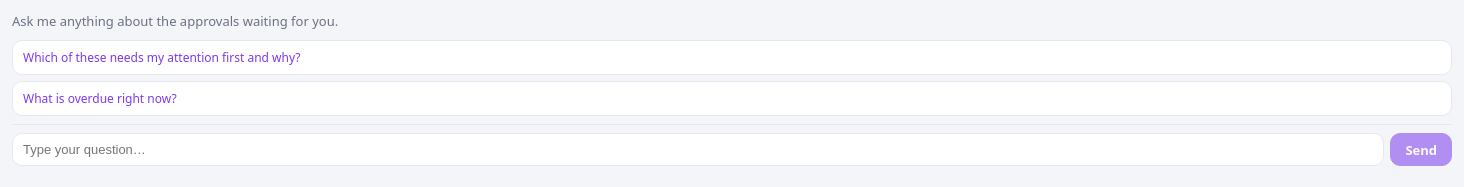
ChatPanel: degraded and error states › treats a malformed stream event as an error instead of rendering it
The image size is (1464, 187).
Step 1. Type "Which of these needs my attention first?" into the field named "message the assistant" → (698, 150), box [12,133,1384,166]
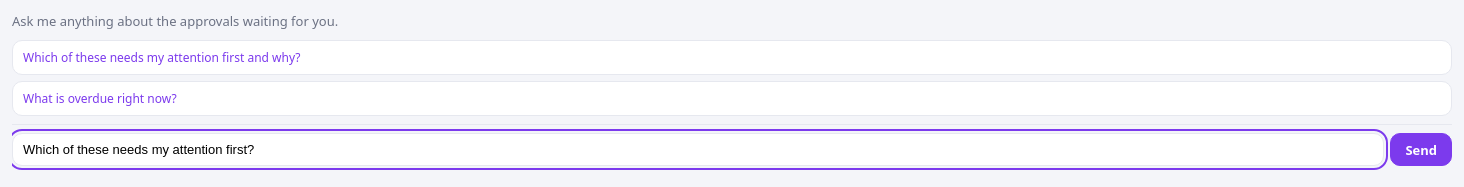
Step 2. Click the button "Send" → (1421, 150), box [1390,133,1452,166]
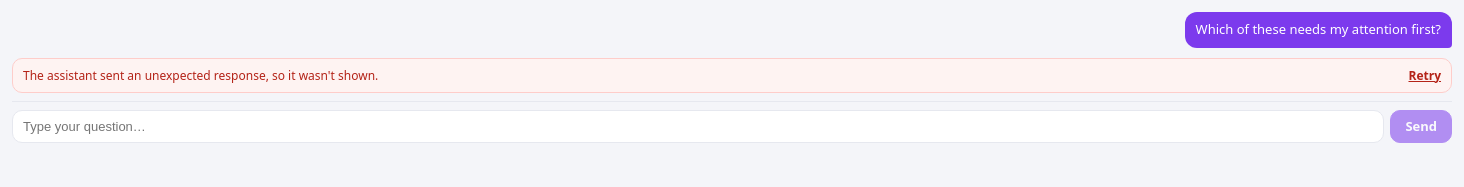
Expected: the message shows "unexpected response", [23,66,378,84]
